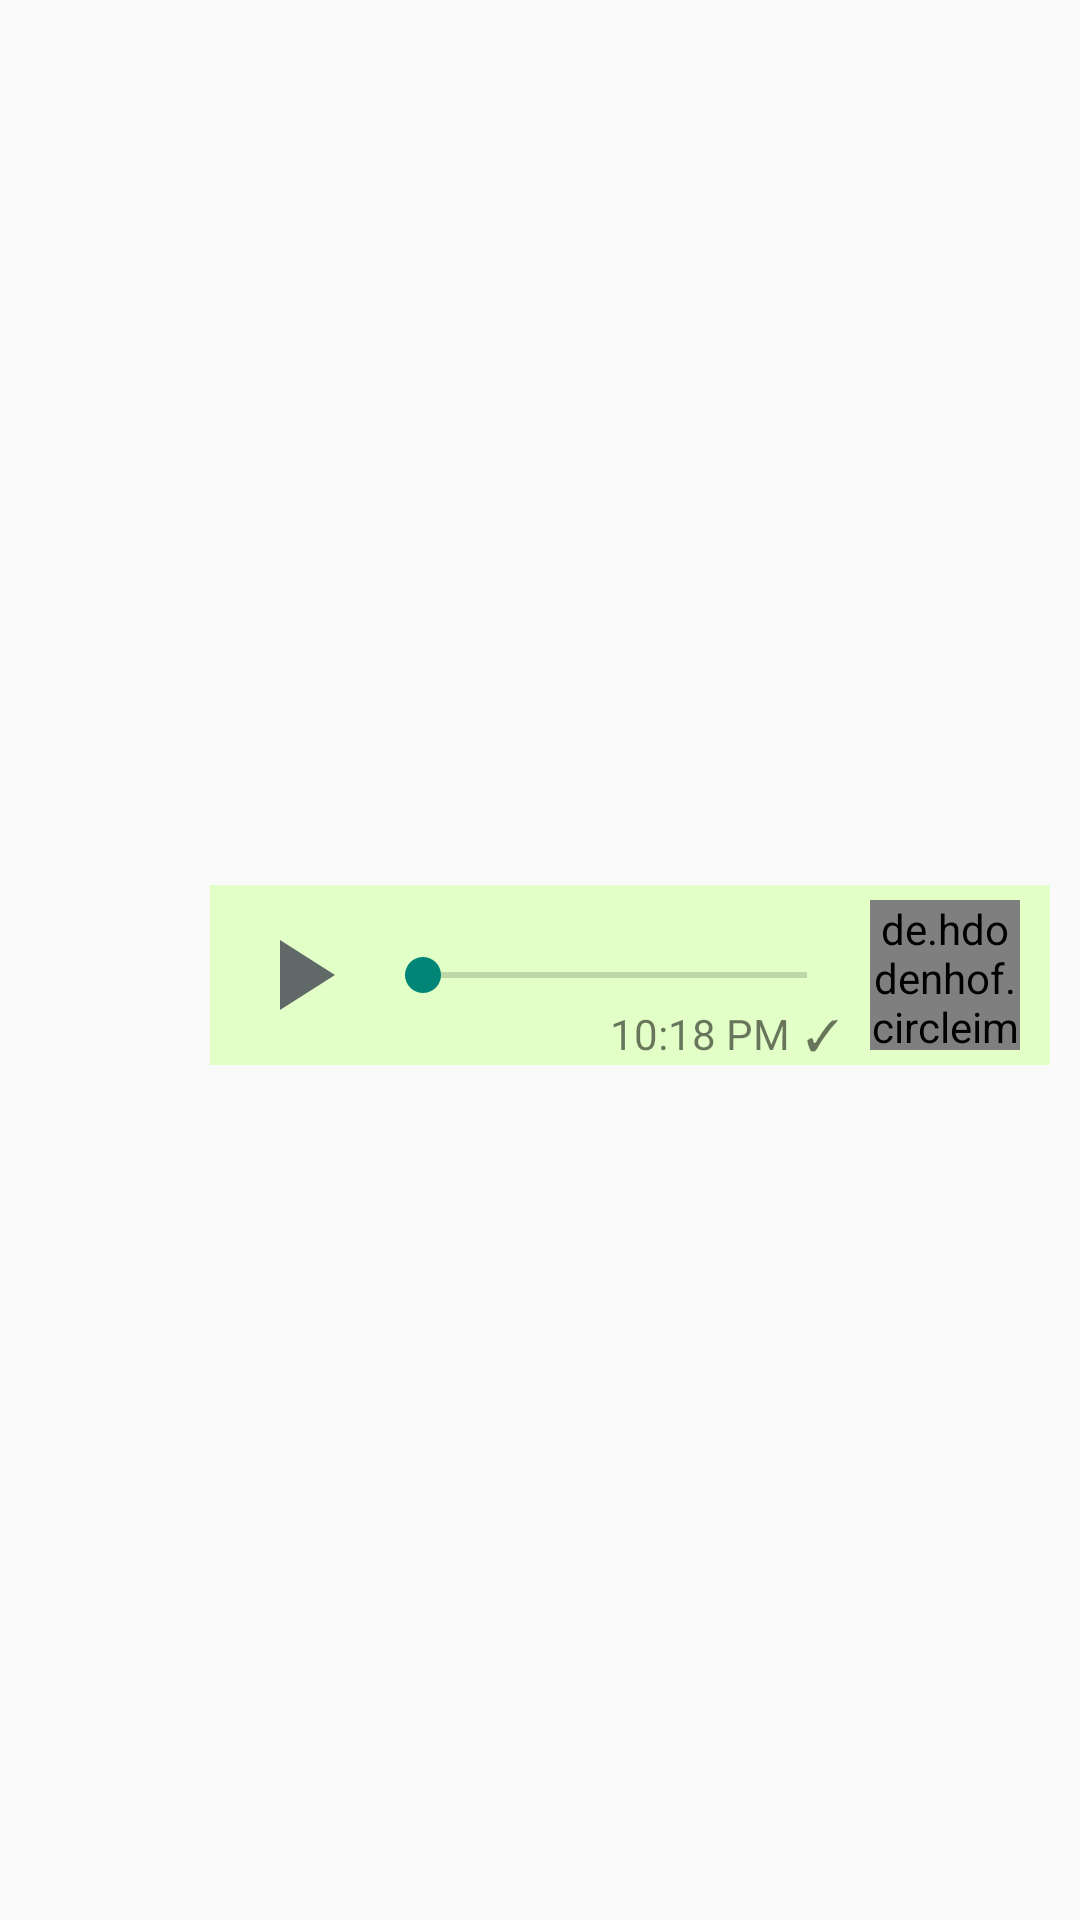

Screen size 1080px x 1920px. Icon name, then its box in pixels as (x1, y1, x2, y2):
play arrow: (280, 940, 335, 1010)
